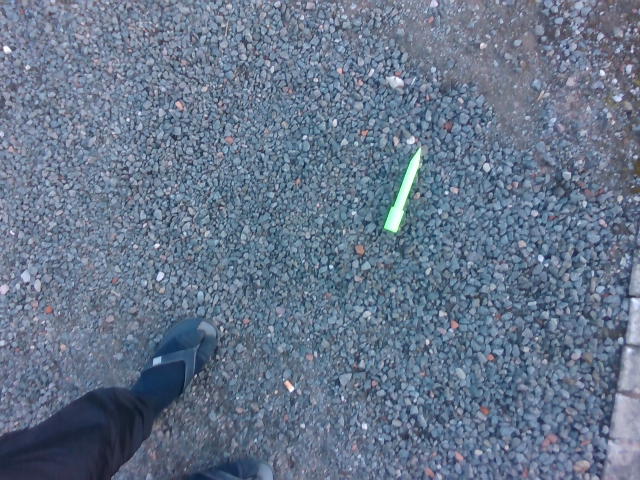Probe: (383, 141, 427, 237)
